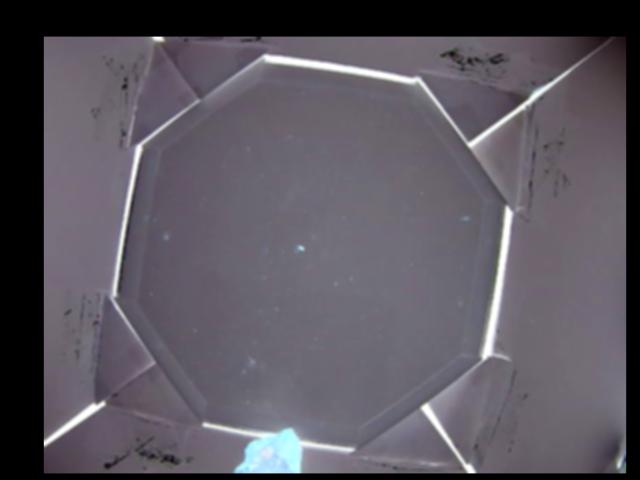Brisk: (230, 427, 302, 473)
